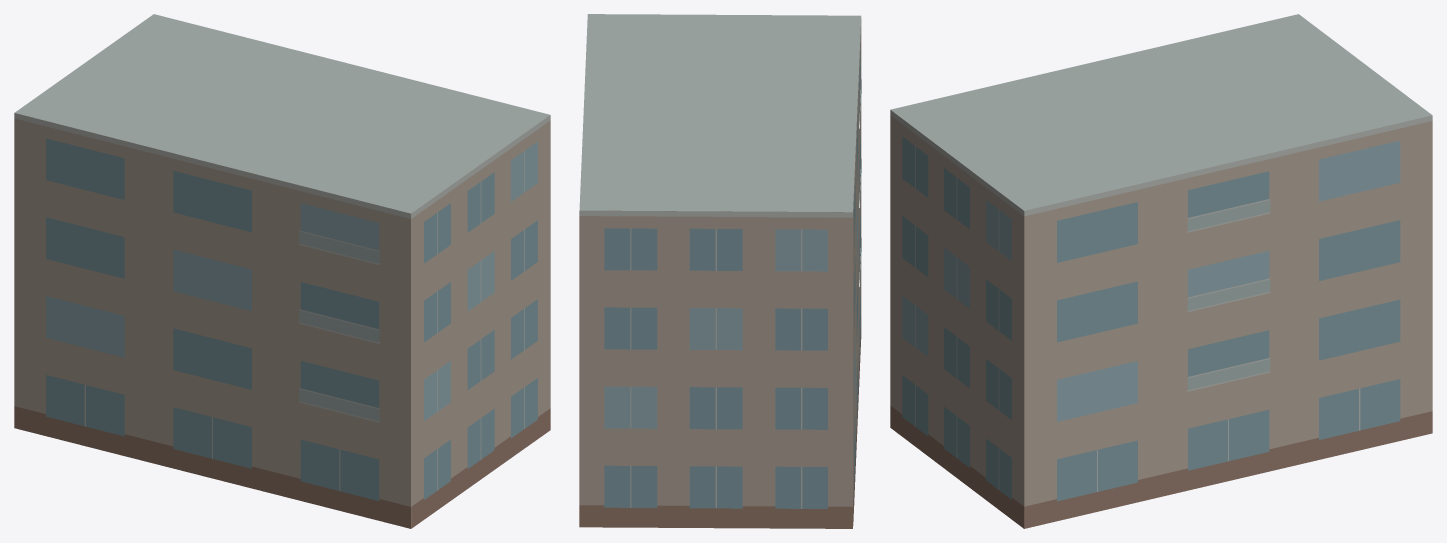
Rendered from survey-upis-32709386.glb.
The picture shows the model from 3 angles, left to right: view 1: azimuth 30°, elevation 25°; view 2: azimuth 150°, elevation 25°; view 3: azimuth 270°, elevation 25°; orthographic projection.
Visible parts, largest first — view 1: survey-upis-32709386.tmp; view 2: survey-upis-32709386.tmp; view 3: survey-upis-32709386.tmp.
Part boxes in pixels (x1,y1,x2,y2): survey-upis-32709386.tmp: (14,14,550,528); survey-upis-32709386.tmp: (579,14,861,528); survey-upis-32709386.tmp: (890,14,1432,528).
Size of the model in its own units: 18.74 by 14.1 by 21.81.
